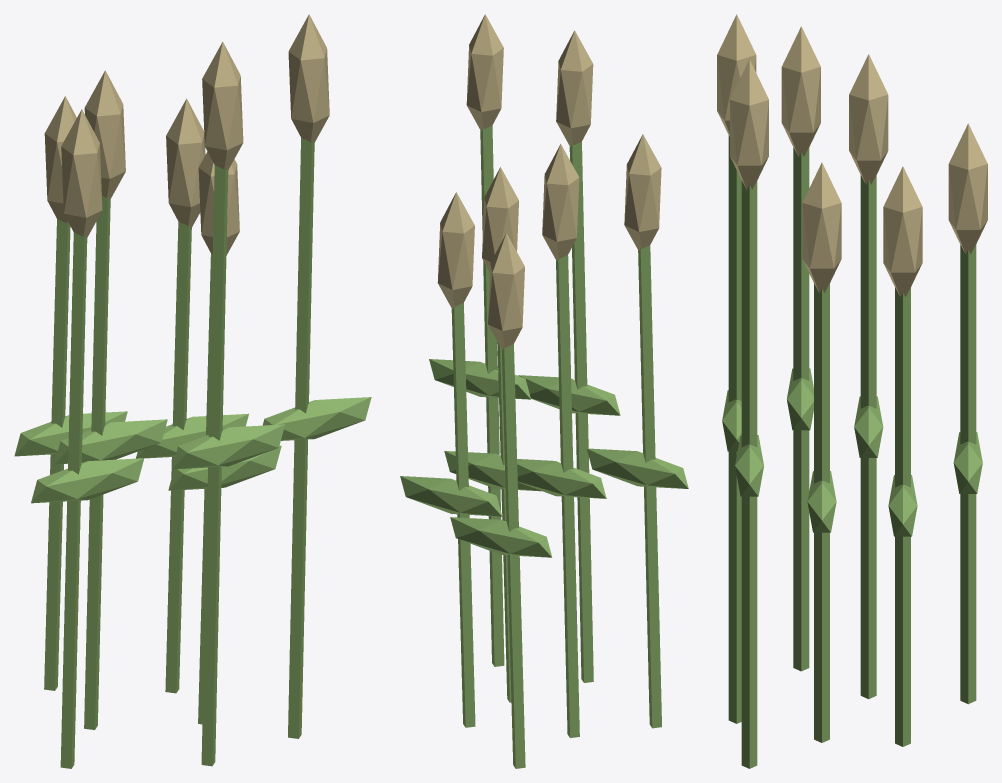
The model's file is plant_wild_rye_ripe.glb.
The picture shows the model from 3 angles, left to right: view 1: azimuth 30°, elevation 25°; view 2: azimuth 150°, elevation 25°; view 3: azimuth 270°, elevation 25°; orthographic projection. The views are drawn at different scales.
Parts seen in each view (by area): view 1: plant_wild_rye_ripe; view 2: plant_wild_rye_ripe; view 3: plant_wild_rye_ripe.
Boxes of the visible parts, bbox=[...] form: plant_wild_rye_ripe: bbox=[14, 14, 371, 768]; plant_wild_rye_ripe: bbox=[400, 14, 688, 768]; plant_wild_rye_ripe: bbox=[717, 14, 987, 768].
Bounding box in the file's own units: 0.5479 × 1.2 × 0.4112.
